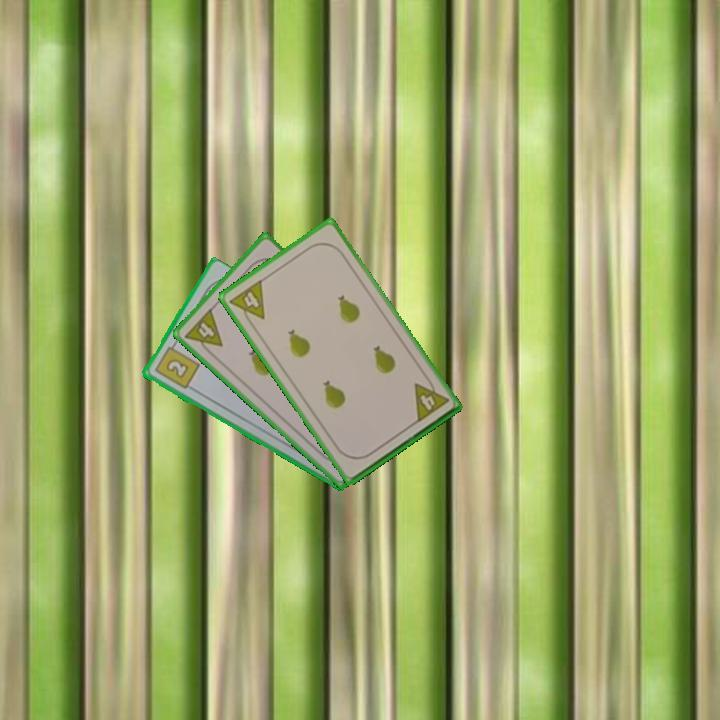2b: (151, 339, 202, 392)
4p: (181, 305, 226, 359), (226, 276, 268, 330), (410, 373, 451, 425)
